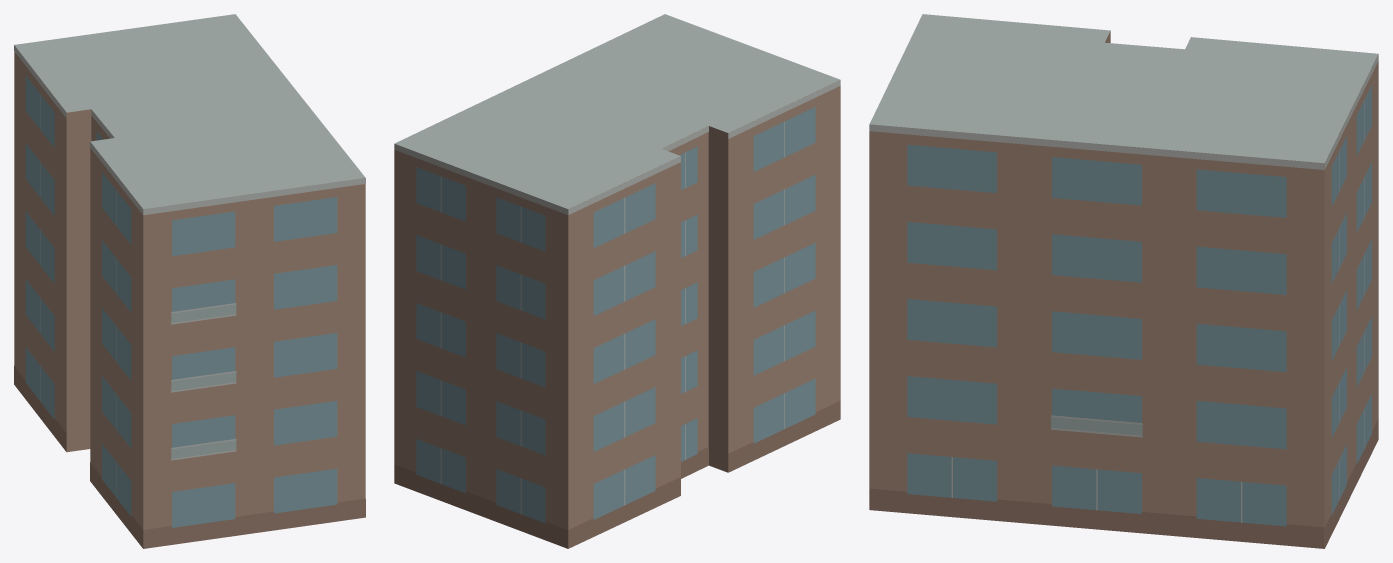
File: survey-upis-32939657.glb
3 views of the same model, side by side, from view 1: azimuth 30°, elevation 25°; view 2: azimuth 150°, elevation 25°; view 3: azimuth 270°, elevation 25° (orthographic). The views are drawn at different scales.
Visible parts, largest first — view 1: survey-upis-32939657.tmp; view 2: survey-upis-32939657.tmp; view 3: survey-upis-32939657.tmp.
Part boxes in pixels (x1,y1,x2,y2): survey-upis-32939657.tmp: (14, 14, 365, 548); survey-upis-32939657.tmp: (394, 14, 840, 548); survey-upis-32939657.tmp: (869, 14, 1378, 548).
Bounding box in the file's own units: 11.46 × 13.8 × 16.53.
